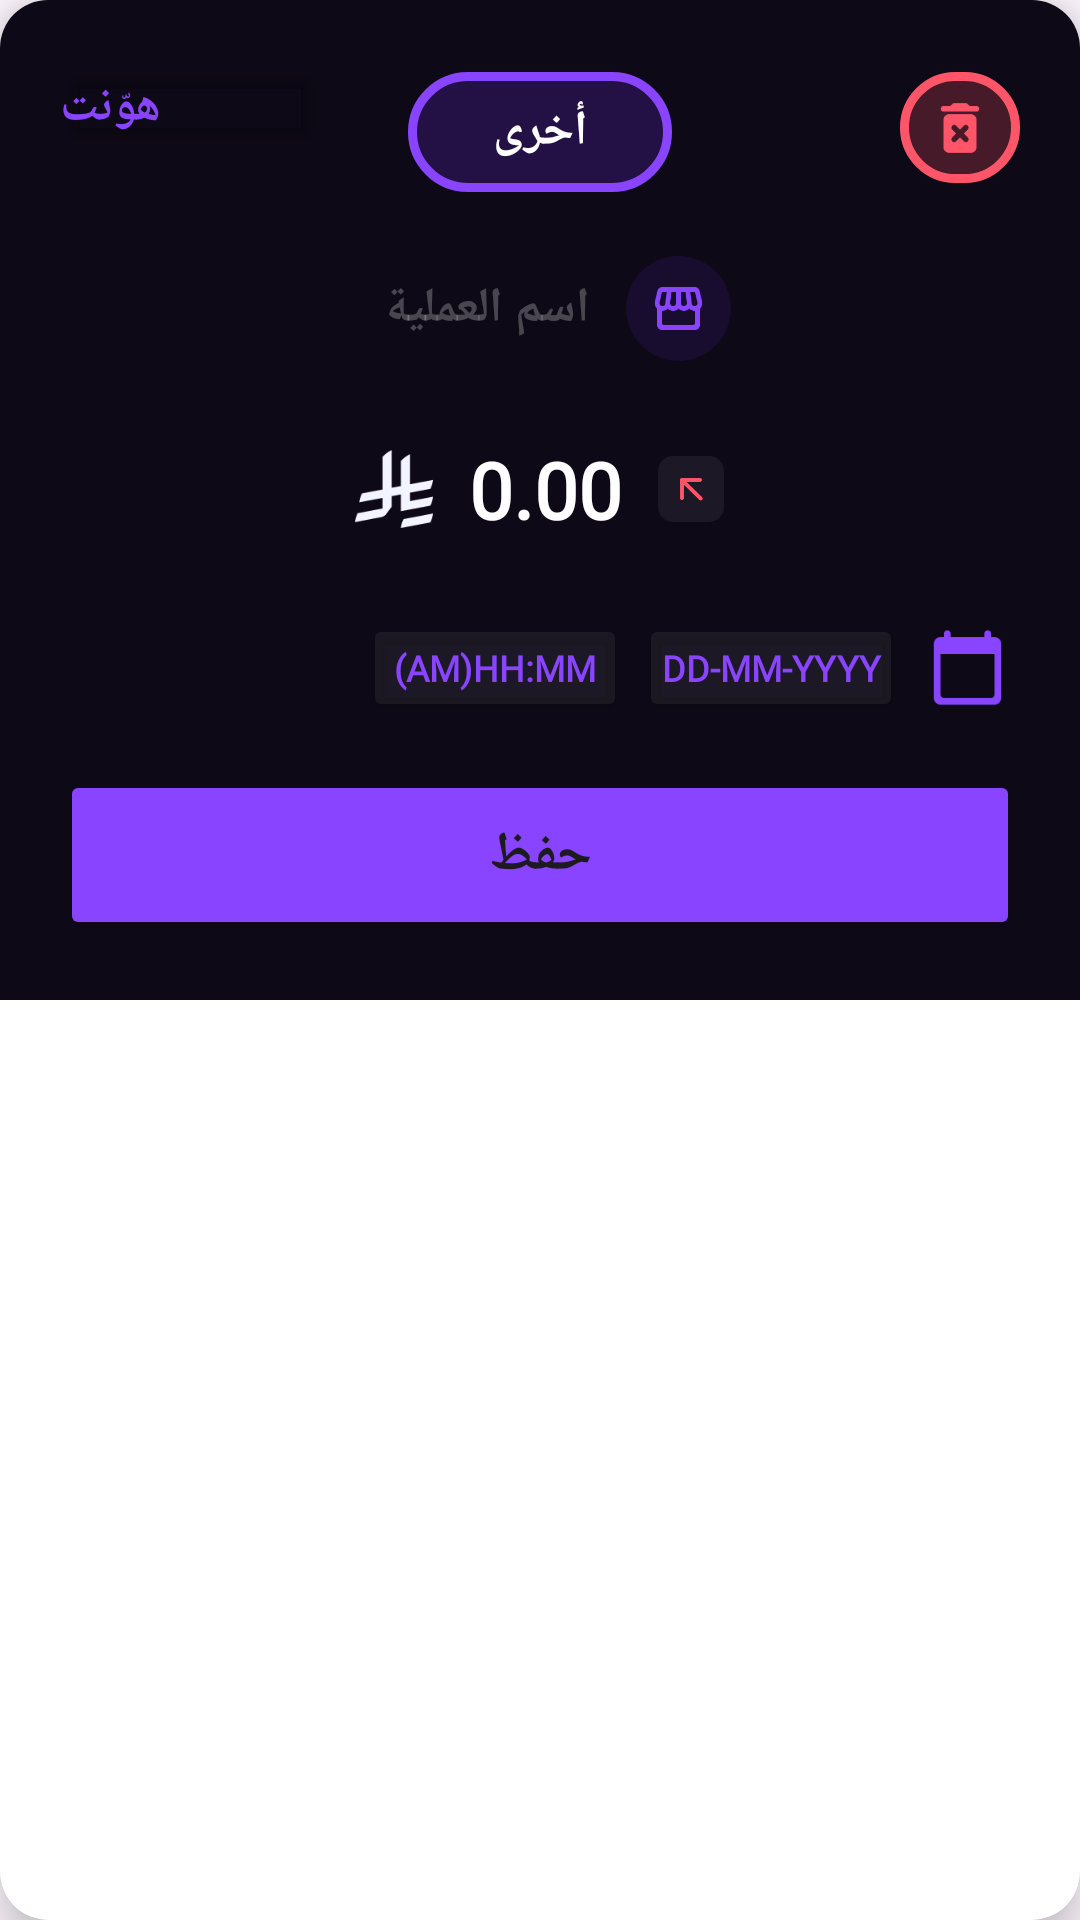

Where to tap for icons on this 1080px x 1920px app screen, as (x=x, y=y):
calendar today: (x=967, y=667)
delete: (x=960, y=127)
riyal symbol: (x=394, y=489)
storefront: (x=678, y=308)
